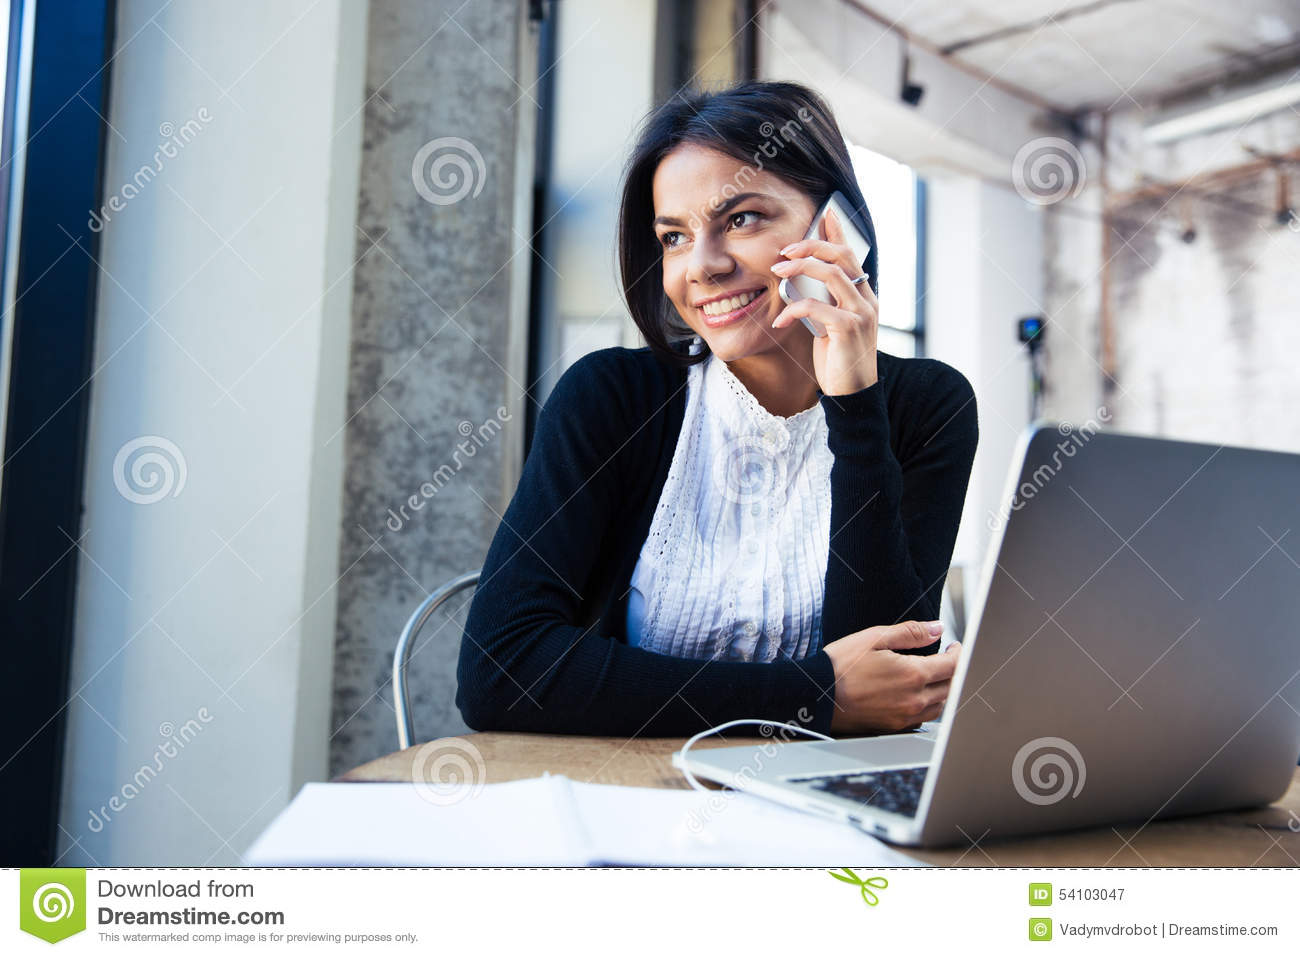phone: (784, 185, 870, 344)
talk: (651, 174, 882, 398)
